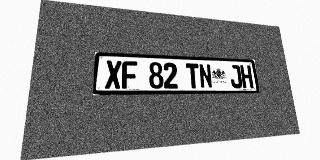2: (163, 62, 178, 89)
8: (149, 62, 164, 89)
F: (122, 61, 137, 89)
H: (240, 65, 254, 88)
J: (229, 65, 243, 88)
N: (198, 64, 213, 88)
T: (186, 63, 200, 88)
X: (105, 60, 122, 89)
